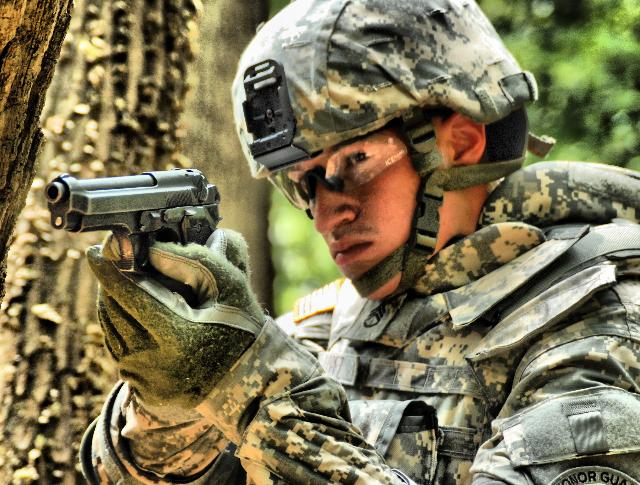pistol: (46, 162, 230, 304)
